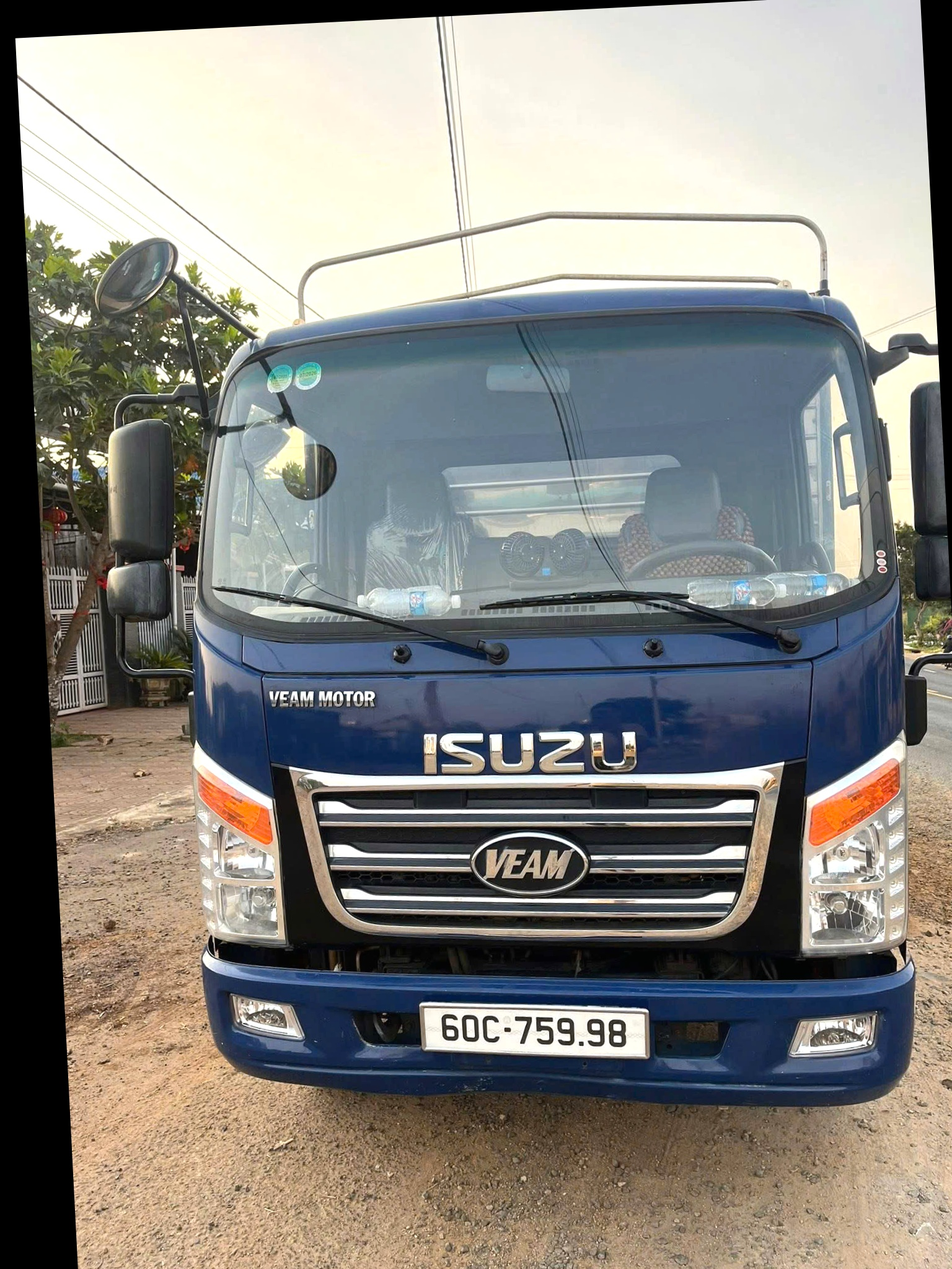Bien-so: (384, 1021, 625, 1099)
